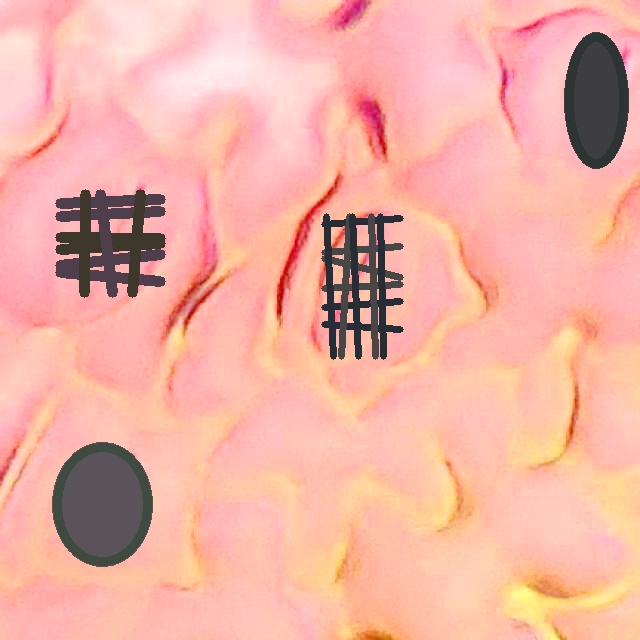close: (56, 190, 165, 297)
open: (52, 443, 152, 566), (321, 213, 402, 359), (563, 32, 628, 169)
